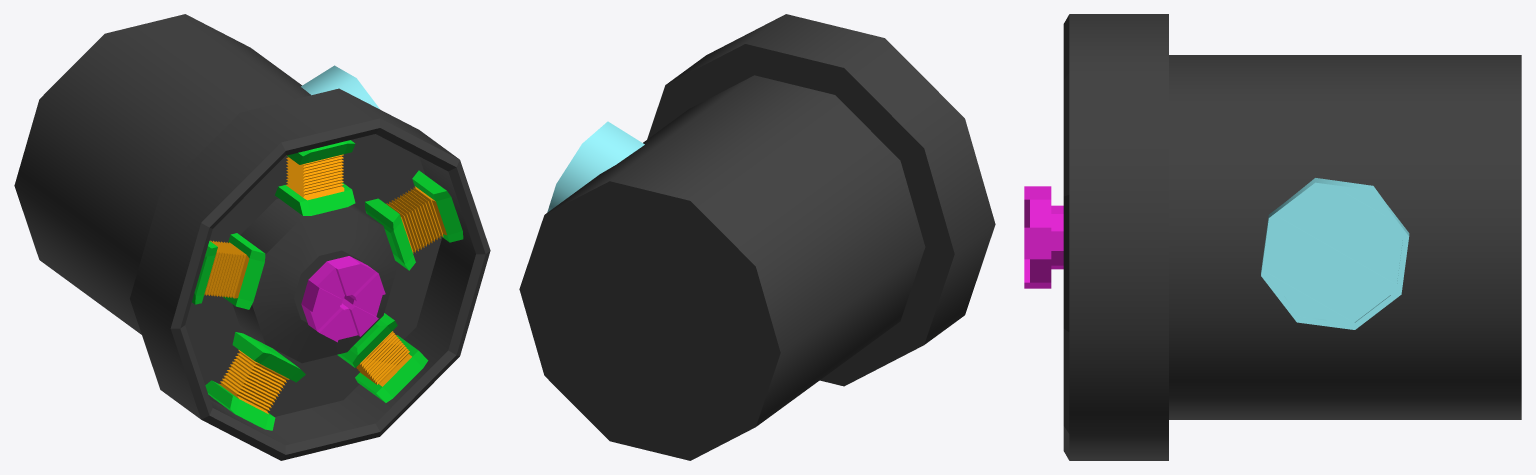
Rendered from SM_ENV_COIL_01.FBX.
3 renders of one model, left to right at view 1: azimuth 30°, elevation 25°; view 2: azimuth 150°, elevation 25°; view 3: azimuth 270°, elevation 25°, orthographic. The views are drawn at different scales.
Visible parts, largest first — view 1: electric coil_01; view 2: electric coil_01; view 3: electric coil_01.
Part boxes in pixels (x1,y1,x2,y2): electric coil_01: [14, 14, 490, 460]; electric coil_01: [519, 14, 995, 460]; electric coil_01: [1024, 14, 1521, 460].
Size of the model in its own units: 217 by 204 by 237.
